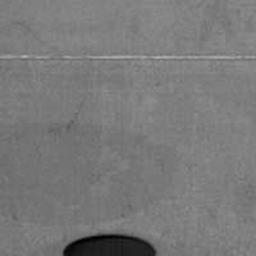Punching: (61, 233, 159, 256)
